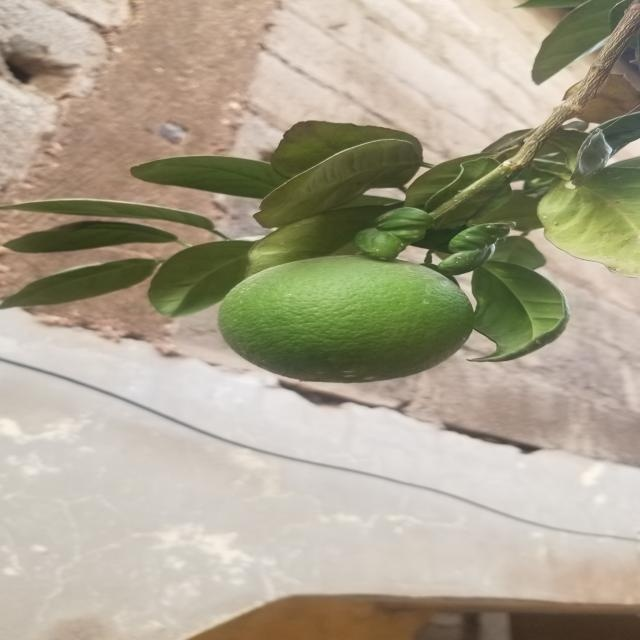agrume: (193, 246, 503, 397)
